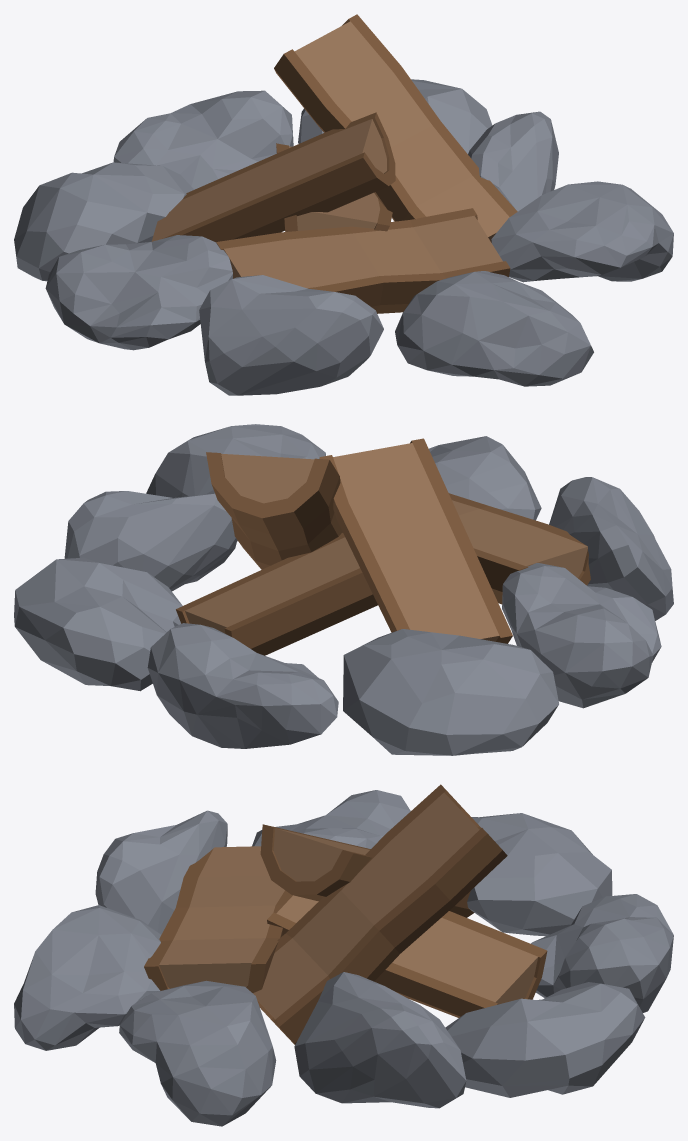
File: mesh_campfire.fbx
3 views of the same model, one above another, from view 1: azimuth 30°, elevation 25°; view 2: azimuth 150°, elevation 25°; view 3: azimuth 270°, elevation 25° (orthographic). The views are drawn at different scales.
Visible parts, largest first — view 1: mesh_campfire; view 2: mesh_campfire; view 3: mesh_campfire.
Boxes of the visible parts, x1=… form: mesh_campfire: x1=14, y1=14, x2=673, y2=395; mesh_campfire: x1=14, y1=424, x2=673, y2=755; mesh_campfire: x1=14, y1=784, x2=673, y2=1126.
Bounding box in the file's own units: 0.8149 × 0.3001 × 0.8237.
